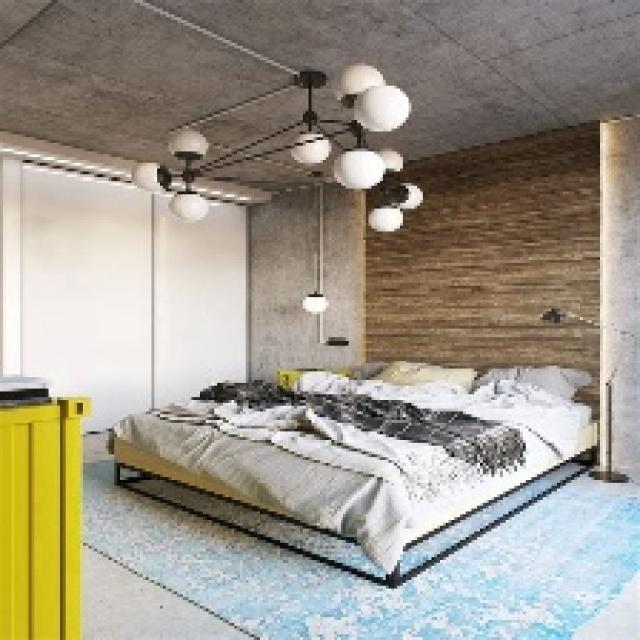Bed: (106, 360, 597, 586)
